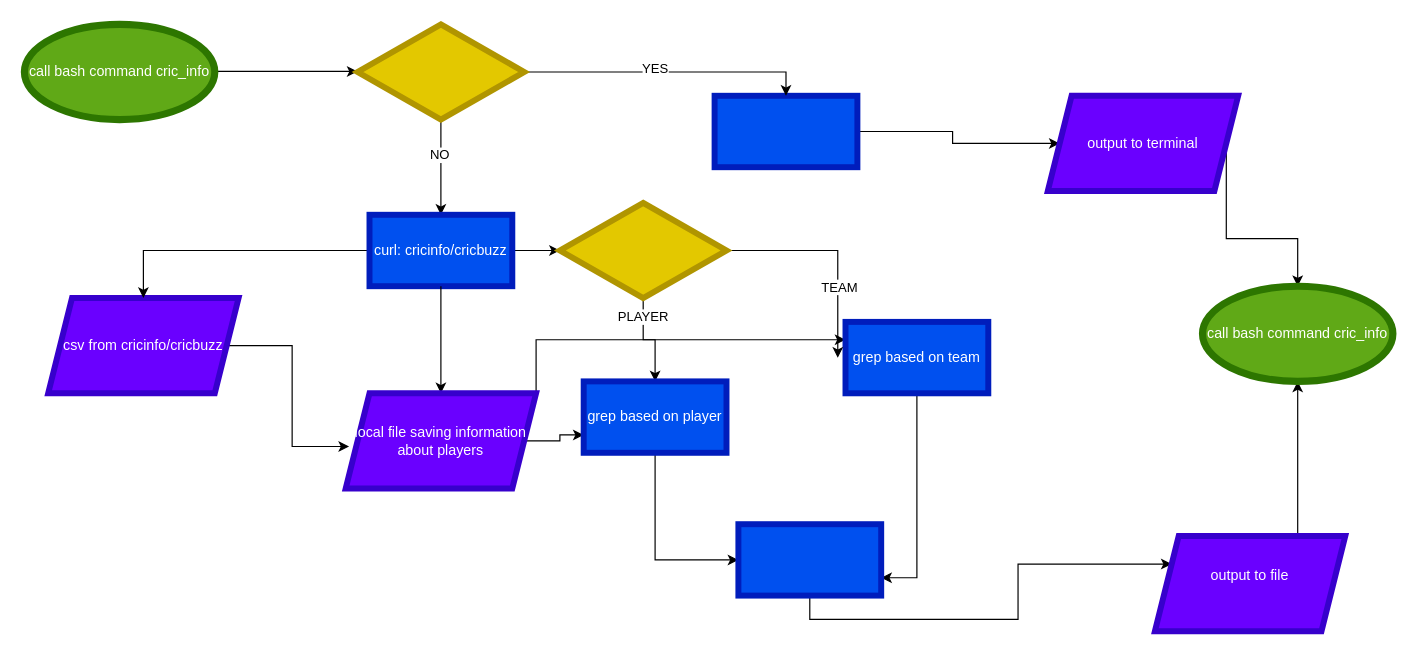
The diagram is 1416 pixels wide and 655 high, and some of its shapes have lost their labels. The shapes that lost their labels are listed below. From the top down, each one's centre as x and y in pixels, then its label:
At pixel 440 71: "No commands?".
At pixel 785 131: "--help command".
At pixel 642 249: "Kind of statistics?".
At pixel 809 559: "filter based on type of filter".
